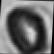correct: (0, 3, 54, 54)
